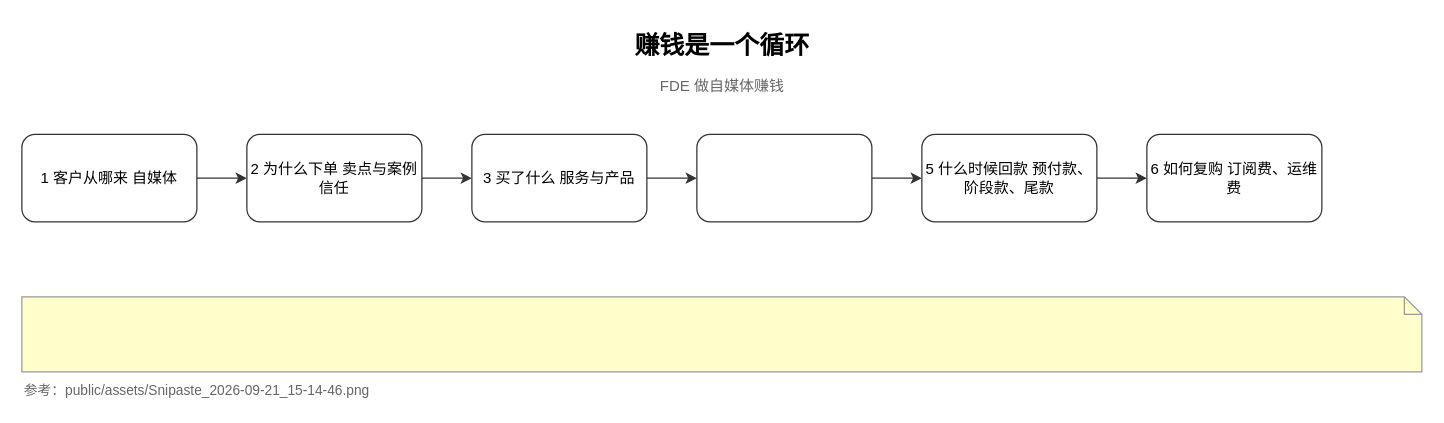
Some shapes in this 1444 by 423 pixel diagram are drawn without their labels. The centre of each missing label's shape, as x and y in pixels:
"4 怎么交付 驻场与 SaaS 开发" belongs at (x=784, y=177).
"任何一环断掉，赚钱循环都会慢慢衰亡" belongs at (x=721, y=334).
